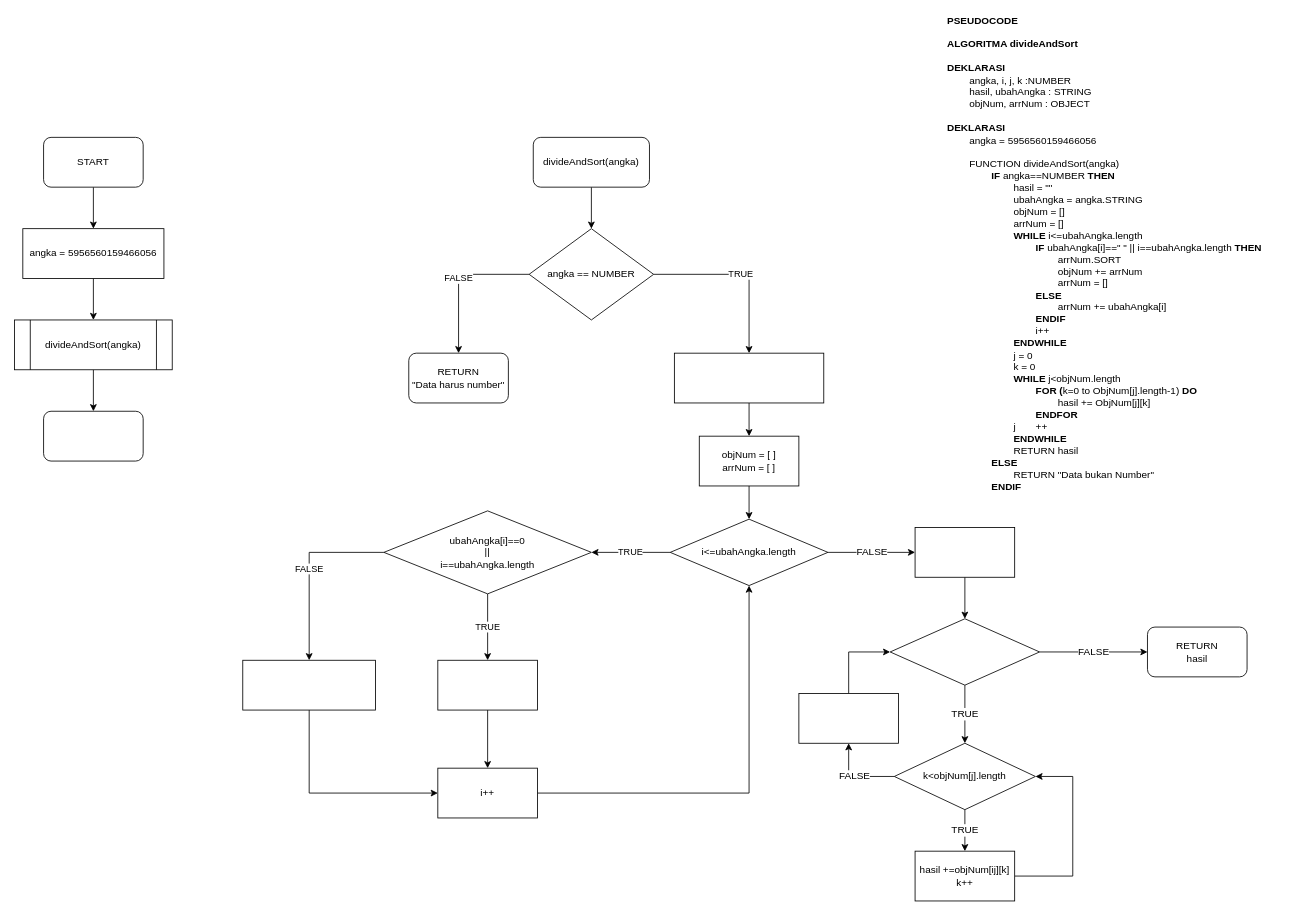
Some shapes in this 1301 by 915 pixel diagram are drawn without their labels. Each missing label, with the centre of its shape:
arrNum += ubahAngka[i]: (309,684)
arrNum.sort objNum+=arrNum arrNum = [ ]: (487,684)
END: (93,435)
hasil = "" ubahAngka = angka.STRING i=0: (749,377)
j = 0 k = 0: (964,552)
j++: (848,718)
j<objNum.length: (964,651)
